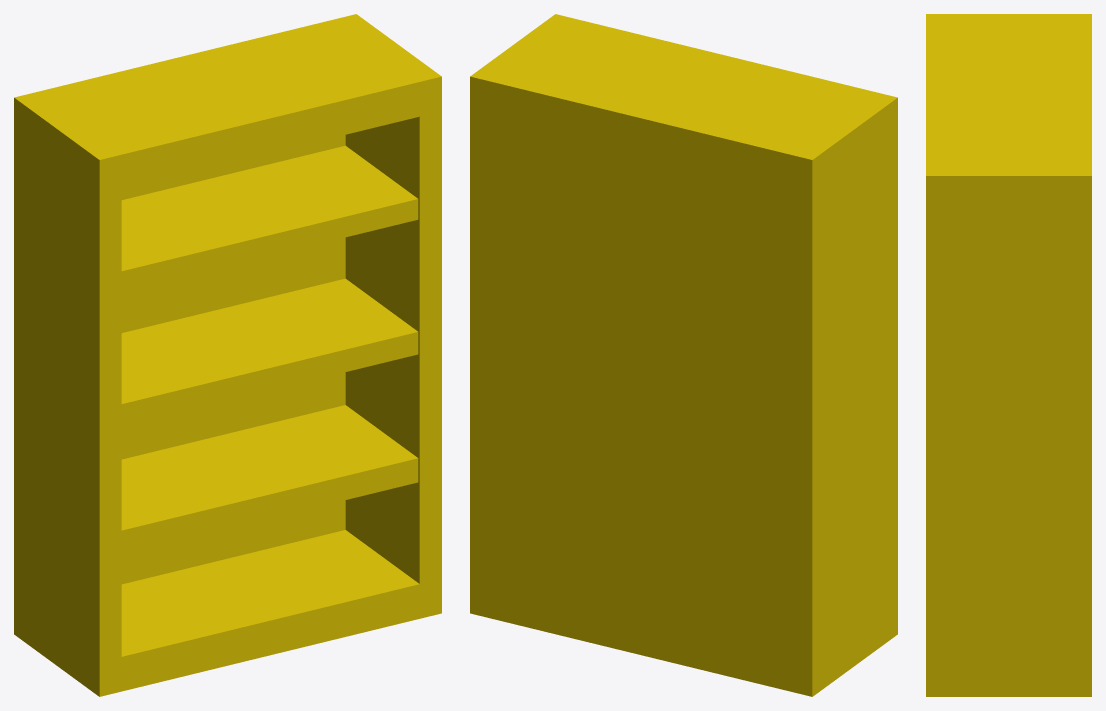
The model's file is Cabinet_hotfix.fbx.
3 renders of one model, left to right at view 1: azimuth 30°, elevation 25°; view 2: azimuth 150°, elevation 25°; view 3: azimuth 270°, elevation 25°, orthographic. The views are drawn at different scales.
Visible parts, largest first — view 1: Cube; view 2: Cube; view 3: Cube.
Boxes of the visible parts, left/top/right/bottom form: Cube: left=14, top=14, right=441, bottom=696; Cube: left=470, top=14, right=897, bottom=696; Cube: left=926, top=14, right=1091, bottom=696.
Bounding box in the file's own units: 214 × 321 × 92.66.
